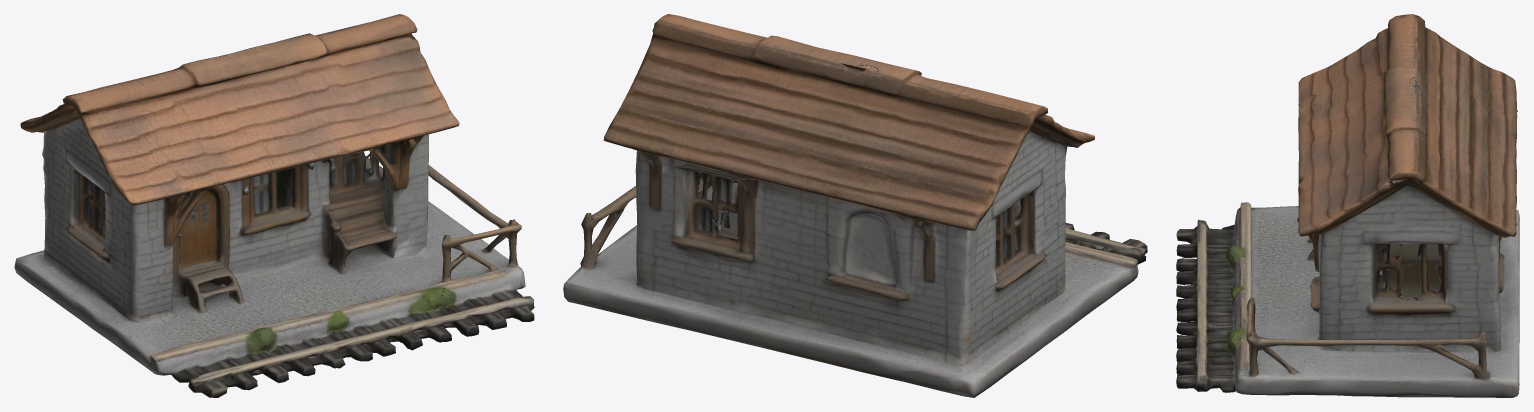
File: estacion.glb
The picture shows the model from 3 angles, left to right: view 1: azimuth 30°, elevation 25°; view 2: azimuth 150°, elevation 25°; view 3: azimuth 270°, elevation 25°; orthographic projection. The views are drawn at different scales.
Visible parts, largest first — view 1: world; view 2: world; view 3: world.
Part boxes in pixels (<box>): world: <box>14,14,534,397</box>; world: <box>563,14,1147,397</box>; world: <box>1176,14,1519,397</box>.
Bounding box in the file's own units: 0.9967 × 0.5725 × 0.8247.
1 material, 1 textured.
